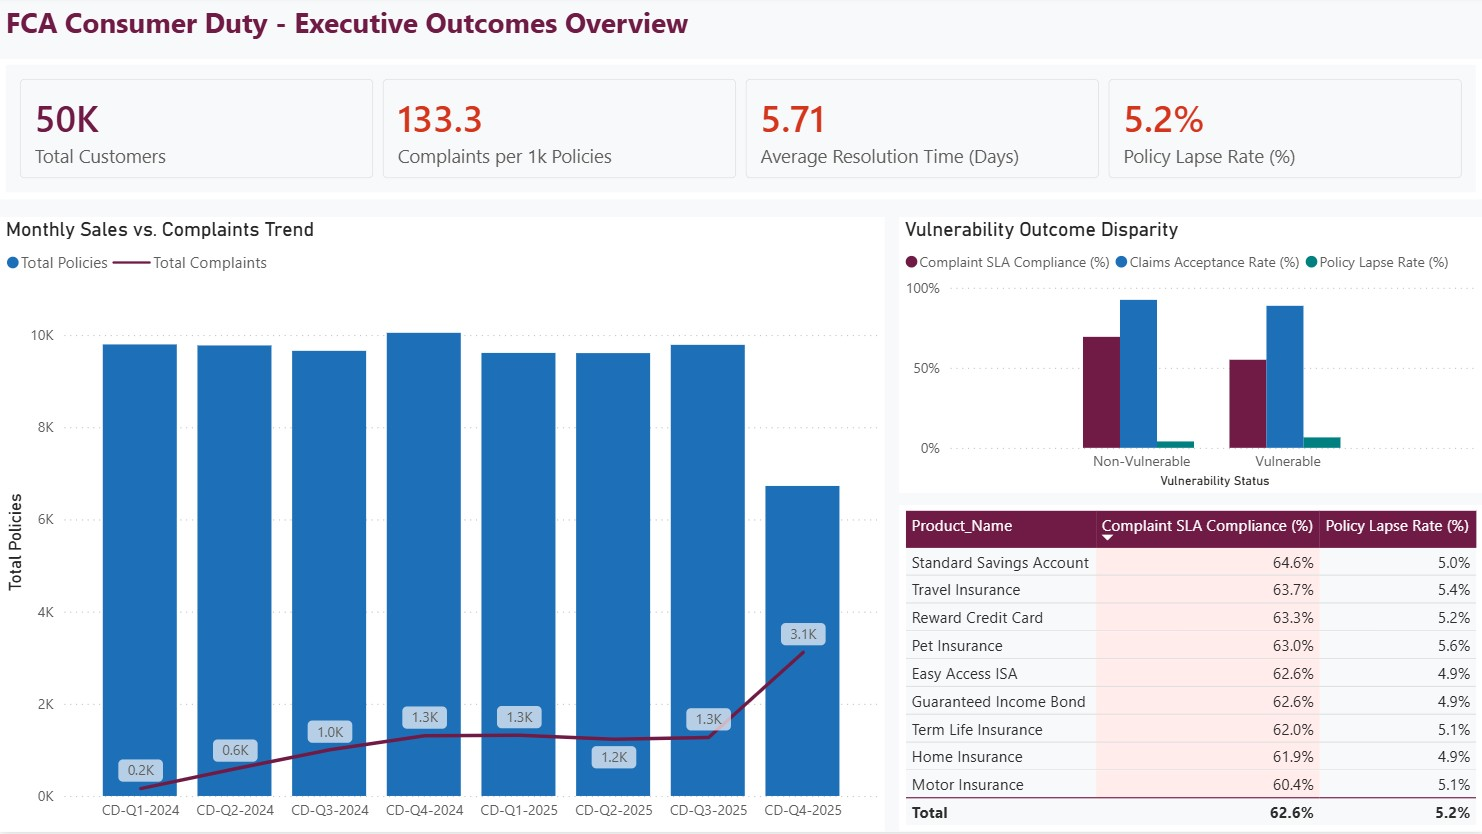

What the dashboard file says about the page in this screenshot:
{"tool":"powerbi","page":{"name":"Executive Outcomes Overview","canvas":[1280,720],"ordinal":0},"visuals":[{"type":"cardVisual","fields":{"Data":["_Measures.Total Customers","_Measures.Complaints per 1k Policies","_Measures.Average Resolution Time (Days)","_Measures.Policy Lapse Rate (%)"]},"box":[0,53.5,1280,120.9],"z":0},{"type":"lineClusteredColumnComboChart","title":"Monthly Sales vs. Complaints Trend","fields":{"Category":["dim_calendar.reporting_period"],"Y":["_Measures.Total Policies"],"Y2":["_Measures.Total Complaints"]},"box":[0,190.1,763.2,529.7],"z":1000},{"type":"clusteredColumnChart","title":"Vulnerability Outcome Disparity","fields":{"Y":["_Measures.Complaint SLA Compliance (%)","_Measures.Claims Acceptance Rate (%)","_Measures.Policy Lapse Rate (%)"],"Category":["dim_customer.Vulnerability Status"]},"box":[775.2,190.1,504.8,238.1],"z":2000},{"type":"tableEx","fields":{"Values":["dim_product.product_name","_Measures.Complaint SLA Compliance (%)","_Measures.Policy Lapse Rate (%)"]},"box":[775.2,438.4,504.8,281.5],"z":3000},{"type":"textbox","box":[0,0,626.6,60],"z":4000}]}

Visuals, with their boxes in screenshot pixels (x1, y1, x2, y2), scaled from the page's 1280x720 canvas onto the 1482x834 screenshot:
cardVisual - _Measures.Total Customers x _Measures.Complaints per 1k Policies: (0,62,1481,202)
"Monthly Sales vs. Complaints Trend" lineClusteredColumnComboChart: (0,220,884,833)
"Vulnerability Outcome Disparity" clusteredColumnChart: (898,220,1481,496)
tableEx - dim_product.product_name x _Measures.Complaint SLA Compliance (%): (898,508,1481,833)
textbox: (0,0,725,70)
